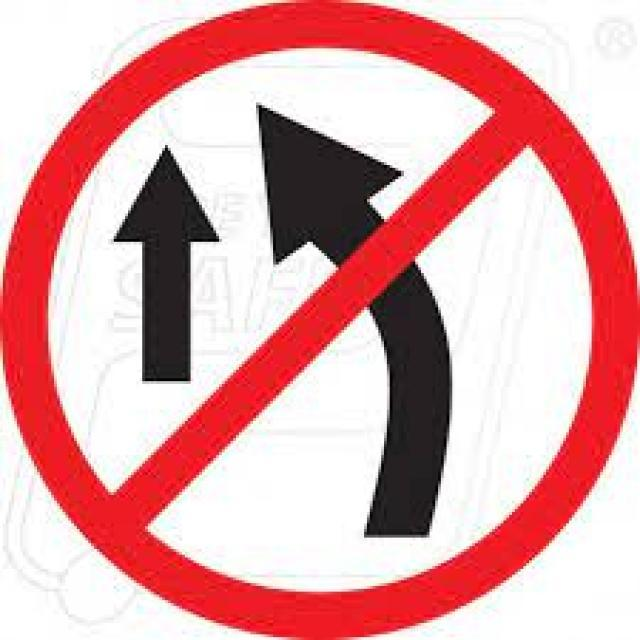overtaking prohibited: (23, 23, 627, 615)
